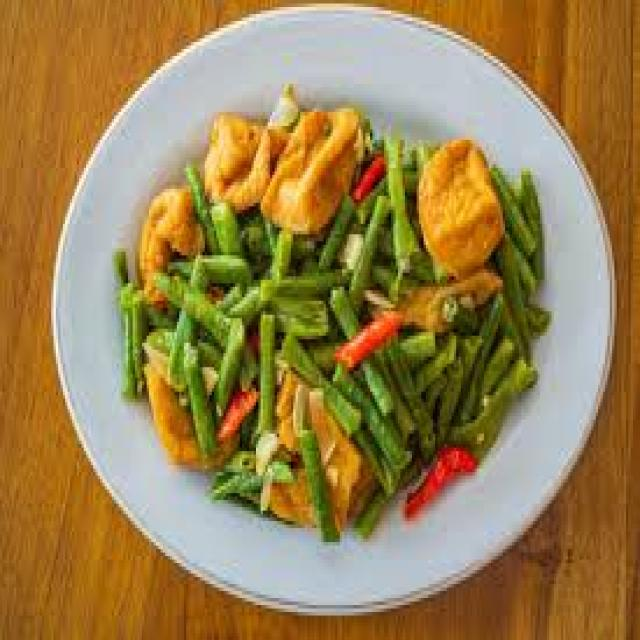kacang_panjang: (128, 145, 549, 510)
tahu: (202, 107, 364, 231), (416, 123, 511, 283), (121, 173, 209, 295)
